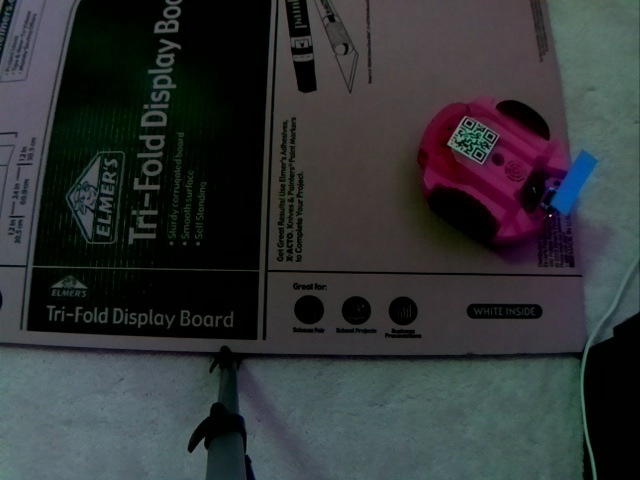chassis: (415, 95, 579, 245)
qr: (443, 112, 503, 167)
